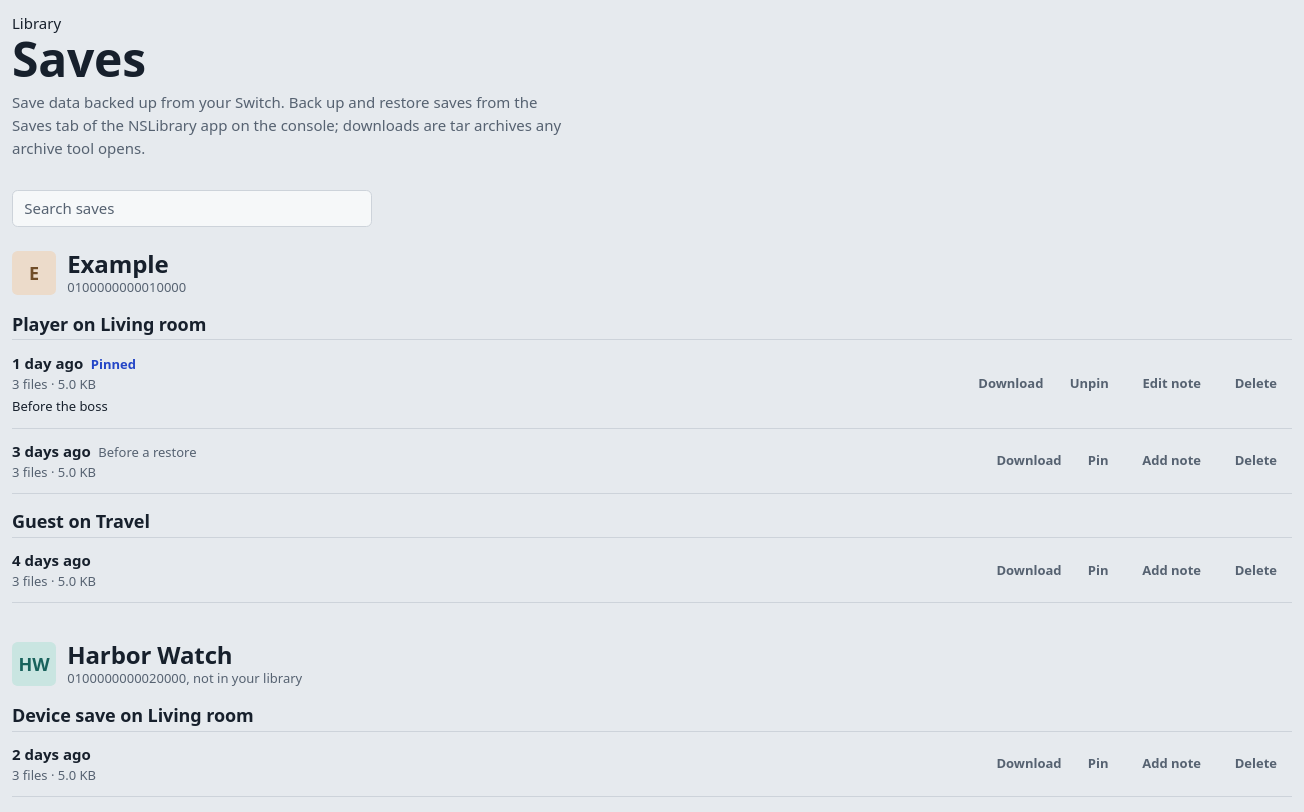
Test: SavesPage › filters by search and by the game in the address
Type "harbor" into the search field labelled "Search saves" at x=192, y=208, box x1=12 y1=190 x2=372 y2=227
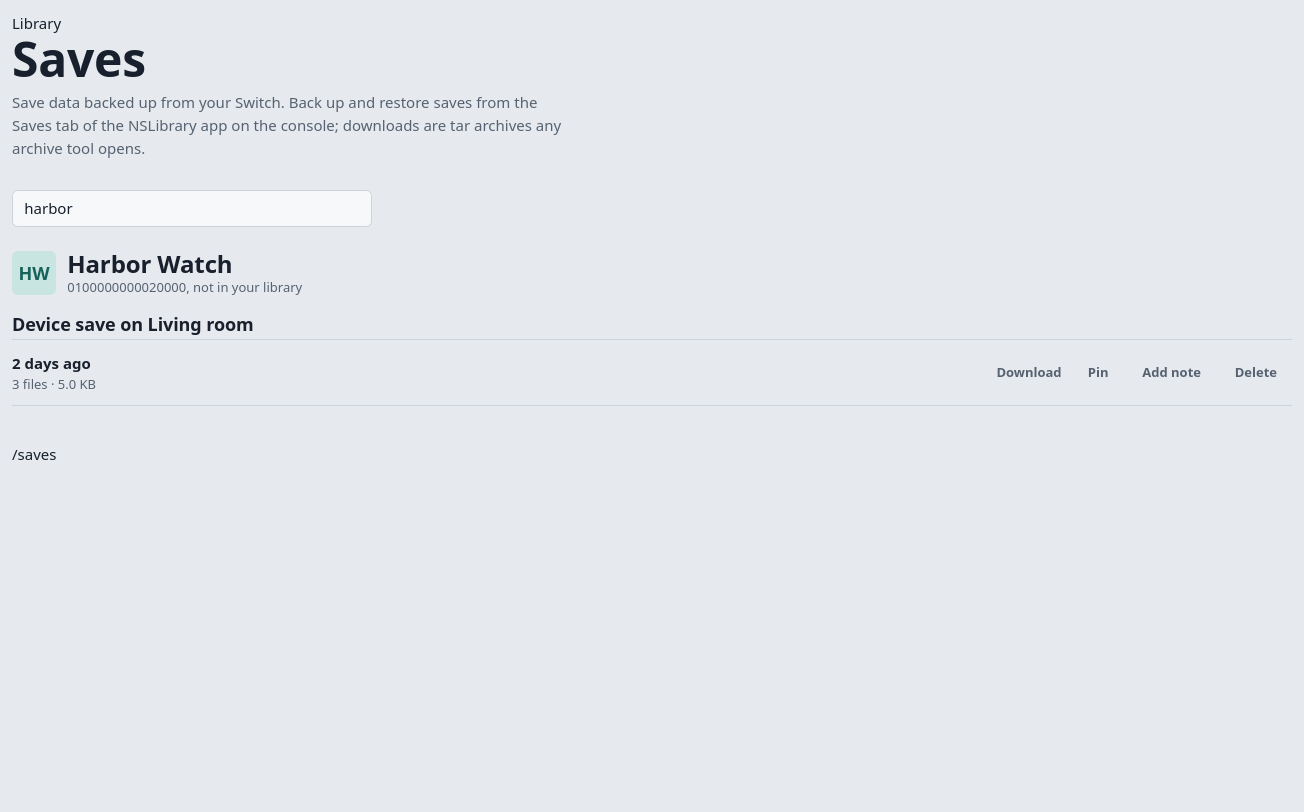
Expected: the heading "Harbor Watch" is shown, x1=67 y1=246 x2=233 y2=280
Now the link "Example" is gone
Replace the text in the search field named "Search saves" with "zelda" at x=192, y=208, box x1=12 y1=190 x2=372 y2=227
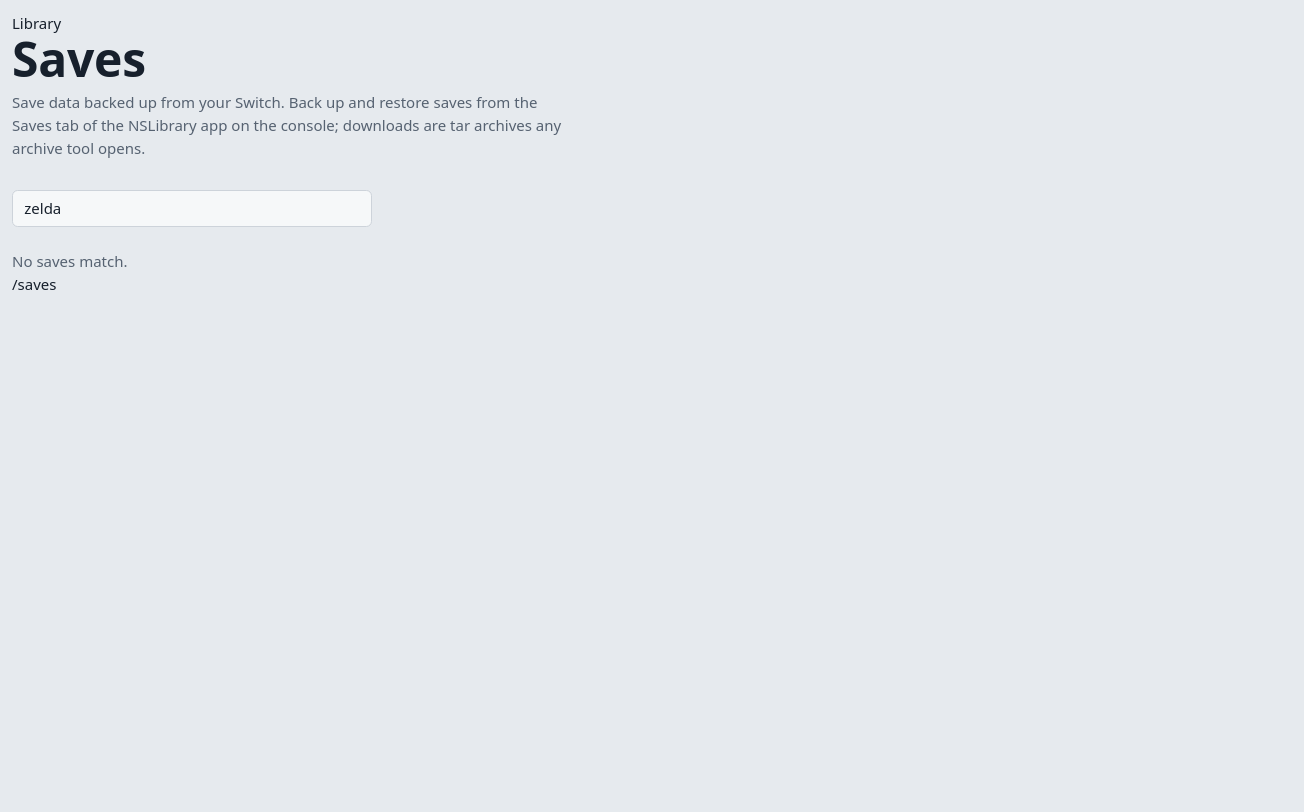
Now the text "No saves match." is shown, box x1=12 y1=250 x2=128 y2=270
